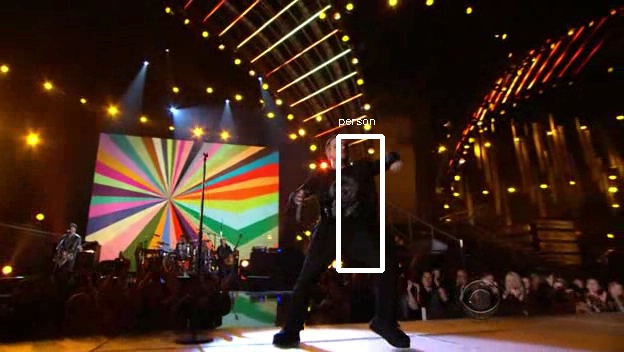person: (312, 137, 377, 256), (309, 137, 374, 256), (315, 137, 380, 256), (312, 134, 377, 253), (312, 140, 377, 259)
target_negative: (22, 67, 544, 190), (265, 56, 541, 167), (210, 58, 492, 160), (435, 225, 521, 263), (66, 221, 87, 264), (526, 300, 540, 332)
